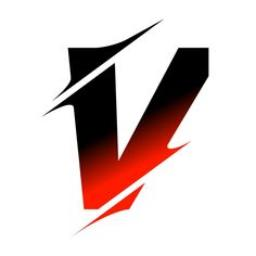v: (39, 16, 211, 236)
